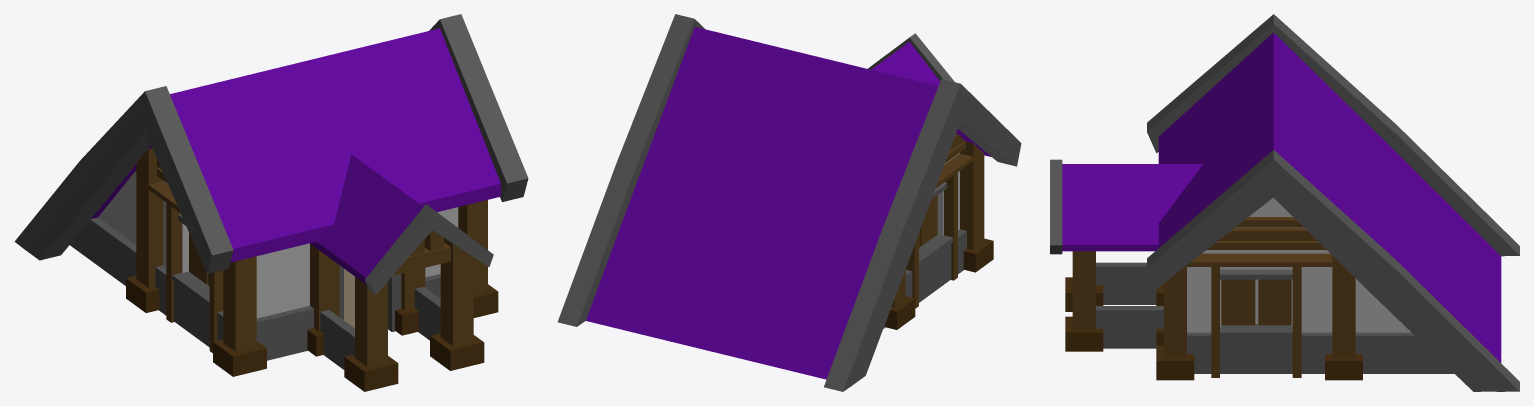
File: Mesh_Royal_Ramp_Hos.fbx
3 views of the same model, side by side, from view 1: azimuth 30°, elevation 25°; view 2: azimuth 150°, elevation 25°; view 3: azimuth 270°, elevation 25° (orthographic). The views are drawn at different scales.
Parts seen in each view (by area): view 1: Royal_Ramp_Hos; view 2: Royal_Ramp_Hos; view 3: Royal_Ramp_Hos.
Boxes of the visible parts, x1,y1,x2,y2 form: Royal_Ramp_Hos: [14, 14, 528, 391]; Royal_Ramp_Hos: [557, 14, 1021, 391]; Royal_Ramp_Hos: [1050, 14, 1519, 391].
Size of the model in its own units: 734 by 550 by 1002.
